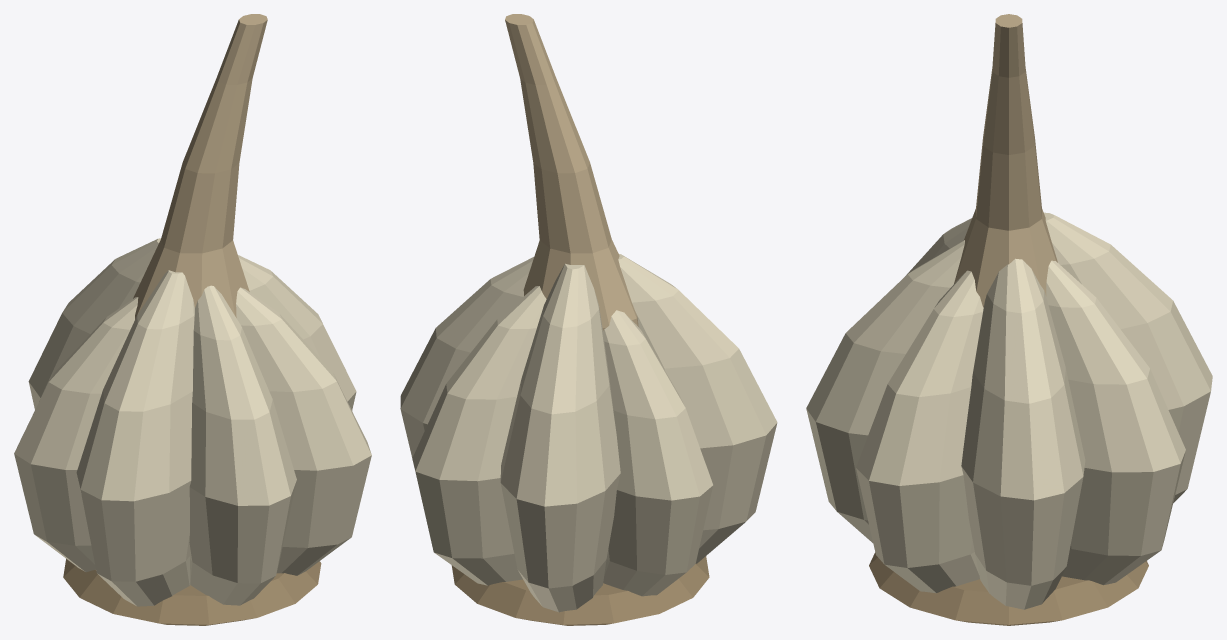
3 renders of one model, left to right at view 1: azimuth 30°, elevation 25°; view 2: azimuth 150°, elevation 25°; view 3: azimuth 270°, elevation 25°, orthographic. The views are drawn at different scales.
Visible parts, largest first — view 1: WholeTaperedGarlicClove5, WholeTaperedGarlicClove6, WholeTaperedGarlicClove7, ContinuousCurvedPaperyNeck, WholeTaperedGarlicClove4, WholeCutBasalRootDisc, WholeTaperedGarlicClove3, WholeTaperedGarlicClove1; view 2: WholeTaperedGarlicClove3, WholeTaperedGarlicClove4, WholeTaperedGarlicClove2, WholeTaperedGarlicClove5, ContinuousCurvedPaperyNeck, WholeTaperedGarlicClove1, WholeCutBasalRootDisc; view 3: WholeTaperedGarlicClove1, WholeTaperedGarlicClove7, WholeTaperedGarlicClove2, WholeTaperedGarlicClove6, ContinuousCurvedPaperyNeck, WholeTaperedGarlicClove3, WholeCutBasalRootDisc, WholeTaperedGarlicClove5.
Part boxes in pixels (bbox=[...]): WholeTaperedGarlicClove5: bbox=[76, 270, 194, 606]; WholeTaperedGarlicClove6: bbox=[189, 285, 296, 605]; WholeTaperedGarlicClove7: bbox=[236, 287, 371, 575]; ContinuousCurvedPaperyNeck: bbox=[133, 14, 267, 319]; WholeTaperedGarlicClove4: bbox=[14, 297, 138, 572]; WholeCutBasalRootDisc: bbox=[63, 559, 321, 625]; WholeTaperedGarlicClove3: bbox=[28, 238, 160, 409]; WholeTaperedGarlicClove1: bbox=[238, 255, 356, 410]; WholeTaperedGarlicClove3: bbox=[500, 263, 620, 612]; WholeTaperedGarlicClove4: bbox=[603, 310, 713, 596]; WholeTaperedGarlicClove2: bbox=[412, 286, 546, 585]; WholeTaperedGarlicClove5: bbox=[618, 254, 777, 563]; ContinuousCurvedPaperyNeck: bbox=[505, 14, 638, 330]; WholeTaperedGarlicClove1: bbox=[400, 257, 533, 457]; WholeCutBasalRootDisc: bbox=[451, 556, 709, 625]; WholeTaperedGarlicClove1: bbox=[961, 258, 1085, 609]; WholeTaperedGarlicClove7: bbox=[856, 270, 983, 593]; WholeTaperedGarlicClove2: bbox=[1046, 260, 1185, 585]; WholeTaperedGarlicClove6: bbox=[806, 240, 964, 542]; ContinuousCurvedPaperyNeck: bbox=[954, 14, 1057, 307]; WholeTaperedGarlicClove3: bbox=[1044, 212, 1212, 502]; WholeCutBasalRootDisc: bbox=[869, 552, 1148, 625]; WholeTaperedGarlicClove5: bbox=[905, 218, 971, 276].
Size of the model in its own units: 0.0674 by 0.112 by 0.0696.
